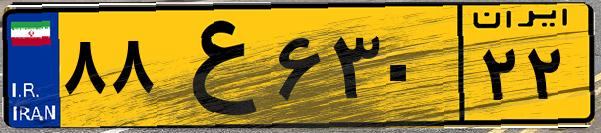0: (385, 28, 445, 110)
2: (475, 38, 525, 113), (525, 38, 570, 115)
3: (330, 28, 385, 110)
6: (270, 28, 330, 110)
8: (57, 26, 110, 100), (110, 28, 158, 98)
ع: (158, 12, 270, 120)
